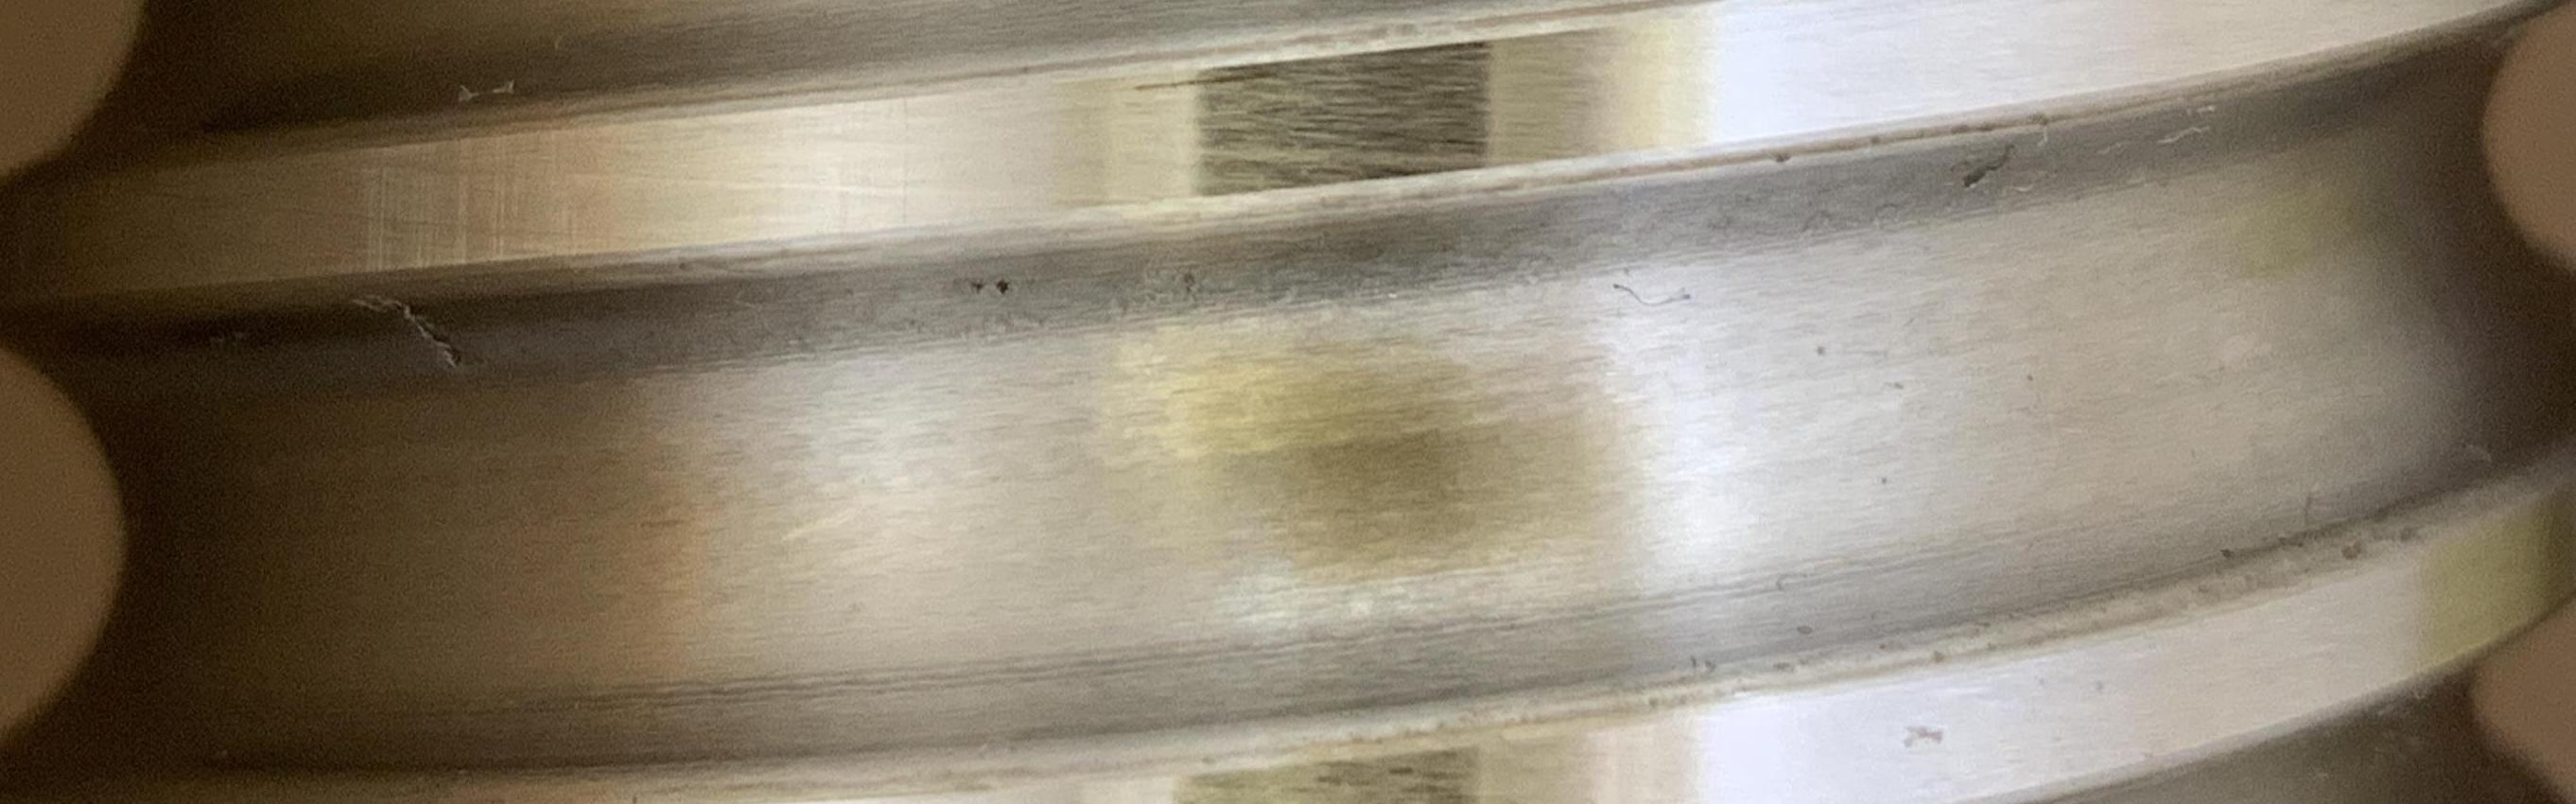pitting: (352, 293, 462, 368), (1963, 143, 2012, 186), (996, 278, 1009, 293), (971, 281, 984, 294)
